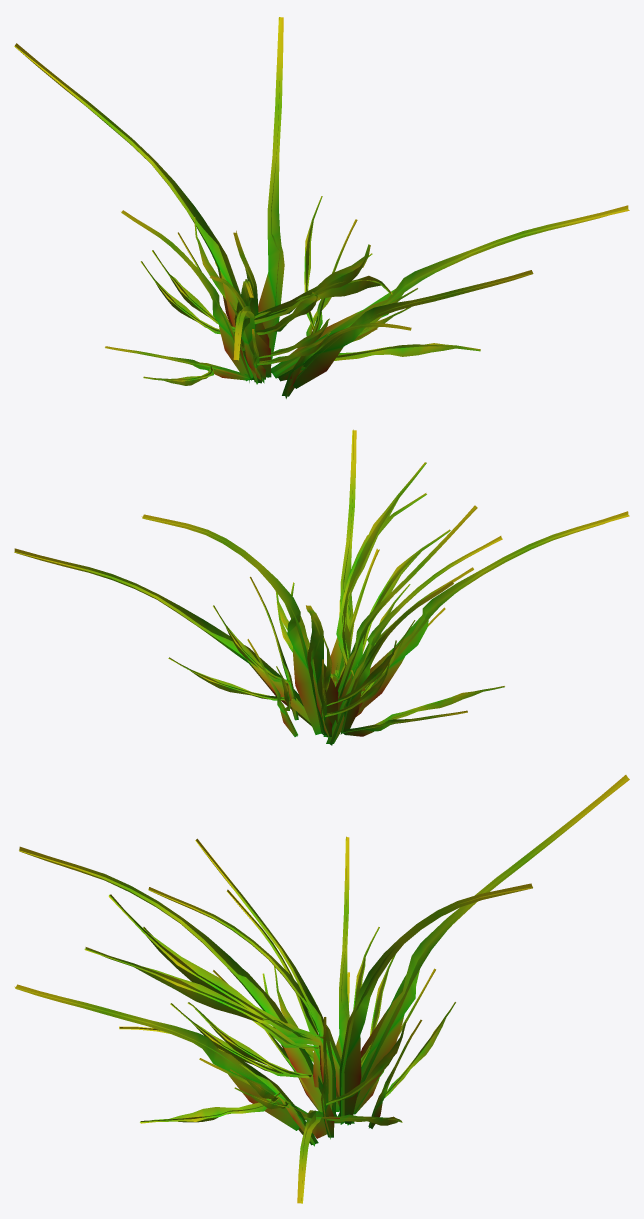
The model's file is Dead Finish_LOD0_Var9_ucokaamia.fbx.
3 renders of one model, top to bottom at view 1: azimuth 30°, elevation 25°; view 2: azimuth 150°, elevation 25°; view 3: azimuth 270°, elevation 25°, orthographic. The views are drawn at different scales.
Parts seen in each view (by area): view 1: _2bhf_Var9_LOD0; view 2: _2bhf_Var9_LOD0; view 3: _2bhf_Var9_LOD0.
Boxes of the visible parts, x1,y1,x2,y2 form: _2bhf_Var9_LOD0: (14, 17, 629, 398); _2bhf_Var9_LOD0: (14, 429, 629, 745); _2bhf_Var9_LOD0: (14, 775, 629, 1203).
Bounding box in the file's own units: 41.43 × 21.75 × 38.89.
